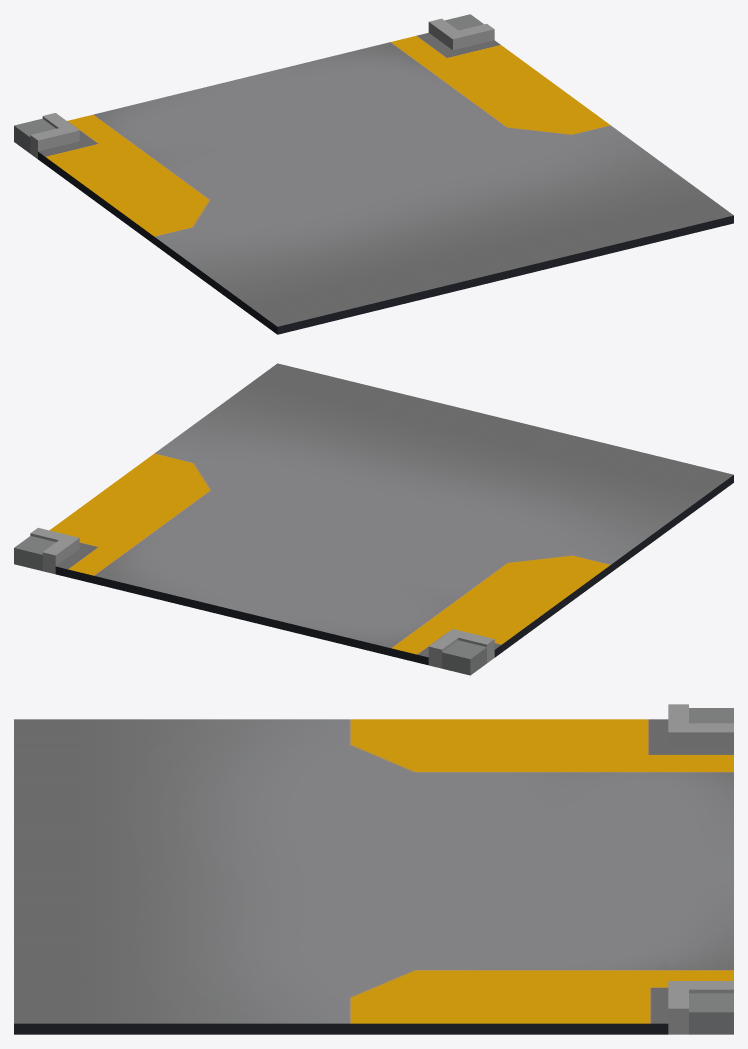
File: Road2_T_Parking_Entrance_Open.fbx
3 views of the same model, one above another, from view 1: azimuth 30°, elevation 25°; view 2: azimuth 150°, elevation 25°; view 3: azimuth 270°, elevation 25° (orthographic). The views are drawn at different scales.
Parts seen in each view (by area): view 1: Road2_T_Parking_Entrance_Open; view 2: Road2_T_Parking_Entrance_Open; view 3: Road2_T_Parking_Entrance_Open.
Boxes of the visible parts, x1,y1,x2,y2 form: Road2_T_Parking_Entrance_Open: (14, 14, 733, 334); Road2_T_Parking_Entrance_Open: (14, 363, 733, 675); Road2_T_Parking_Entrance_Open: (14, 704, 733, 1034).
Bounding box in the file's own units: 12 × 0.4754 × 12.
